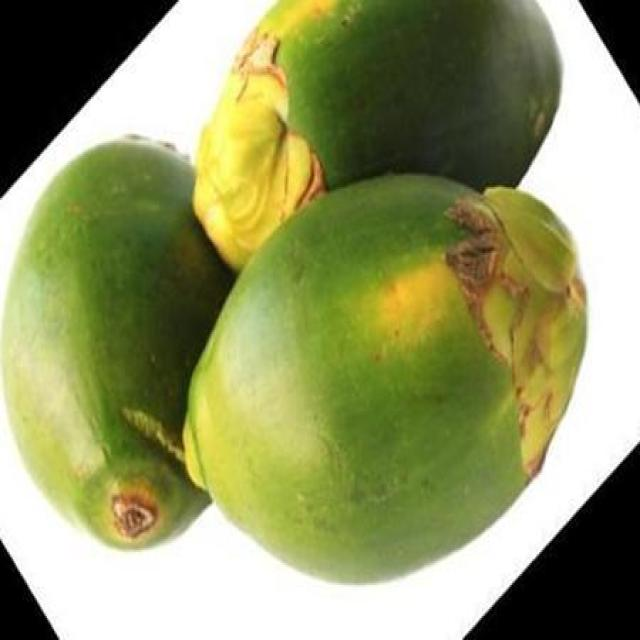good: (181, 174, 592, 589), (192, 0, 563, 275), (0, 136, 239, 557)
